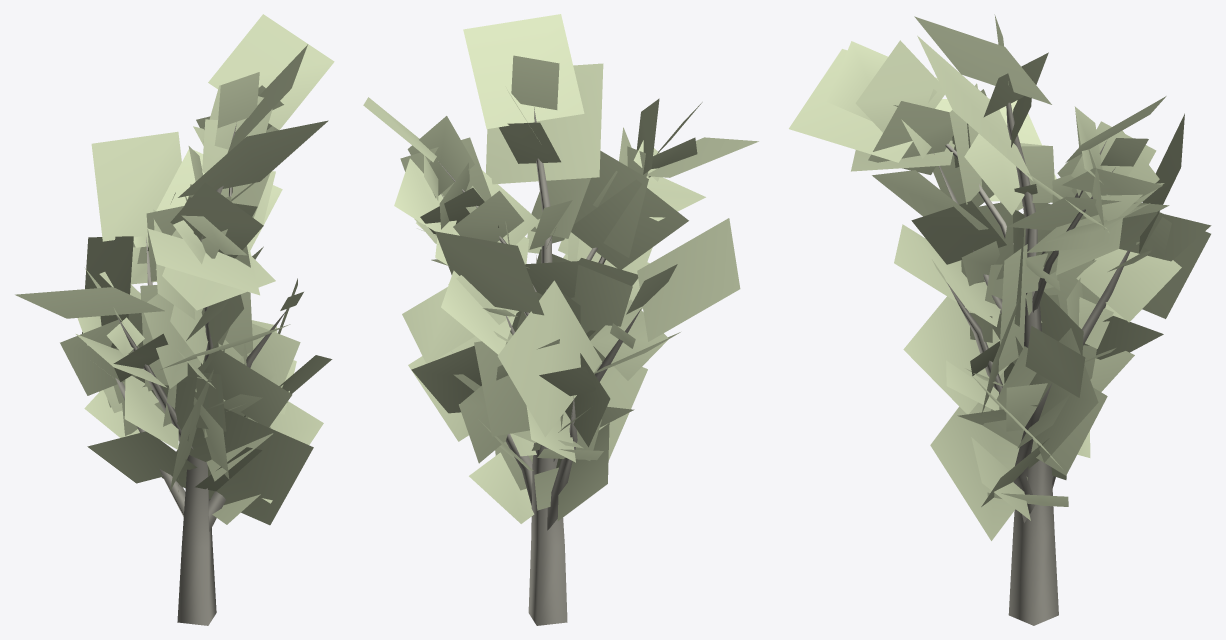
The model's file is keyaki_lo.glb.
3 views of the same model, side by side, from view 1: azimuth 30°, elevation 25°; view 2: azimuth 150°, elevation 25°; view 3: azimuth 270°, elevation 25° (orthographic). The views are drawn at different scales.
Bounding box in the file's own units: 12.36 × 19 × 11.72.
